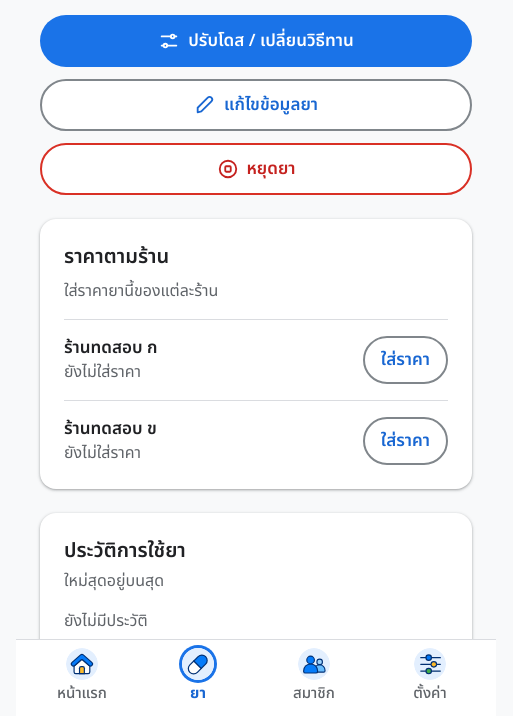
Test: regular medicine: put, change and delete a price › a regular medicine must say how many are in 1 sell unit: empty -> text of per_sell_unit_required
(page scrolled)
Click the button with aria-label "ใส่ราคา ร้านทดสอบ ก": {"x": 405, "y": 360} [363,336,448,384]
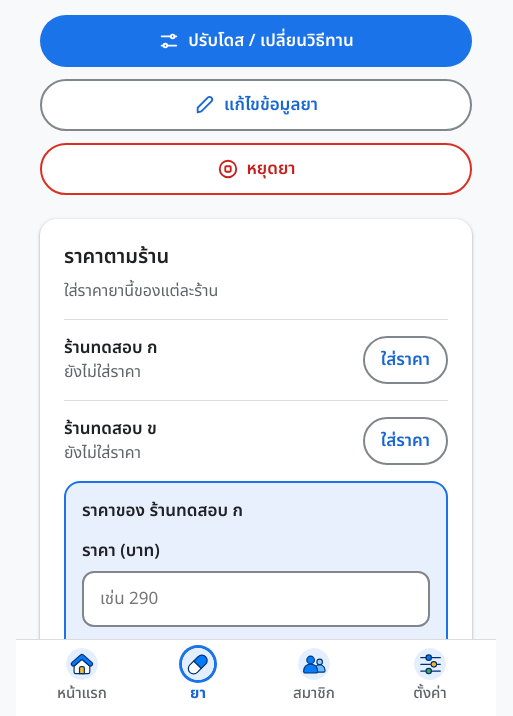
In the number field labelled "ราคา (บาท)": {"x": 256, "y": 599} [82,571,430,627], type "290"
(page scrolled)
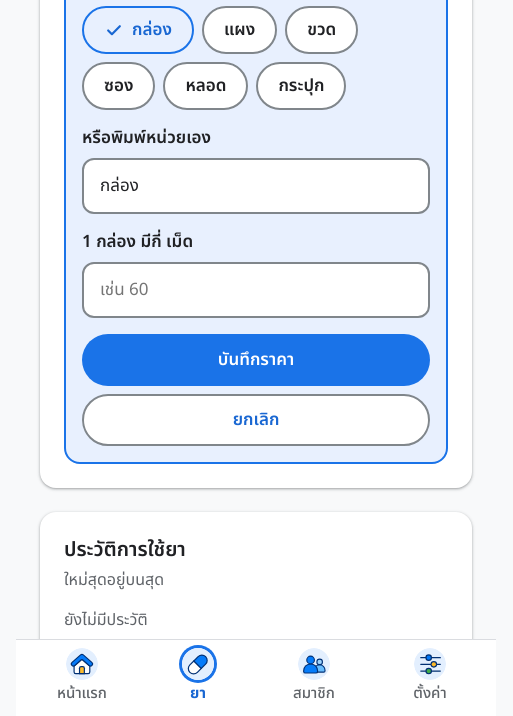
Click the button "บันทึกราคา": {"x": 256, "y": 360} [82,334,430,386]
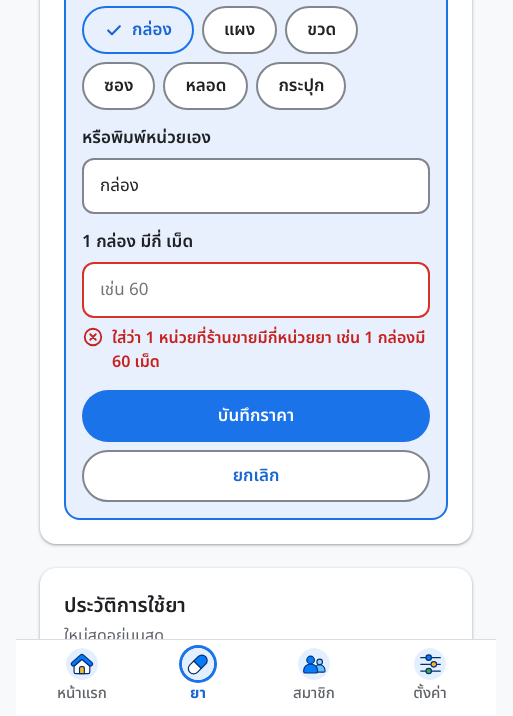
expect the text "ใส่ว่า 1 หน่วยที่ร้านขายมีกี่หน่วยยา เช่น 1 กล่องมี 60 เม็ด" is shown: met, box [82,326,430,374]
In the number field labelled "1 กล่อง มีกี่ เม็ด": {"x": 256, "y": 290} [82,262,430,318], type "0"
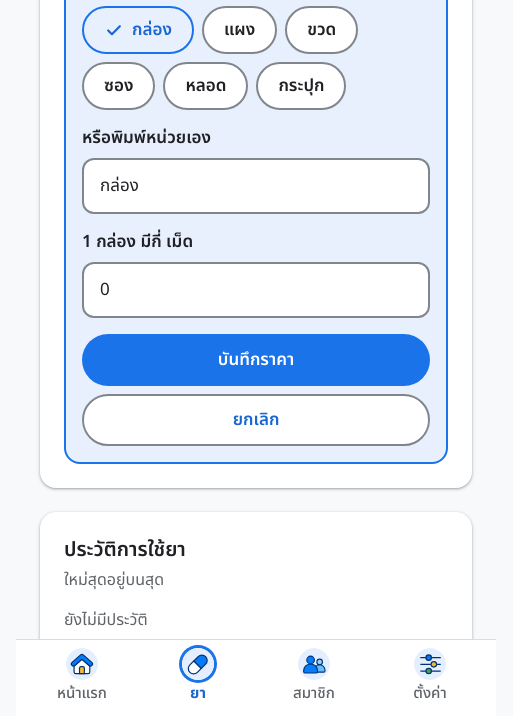
Click the button "บันทึกราคา": {"x": 256, "y": 360} [82,334,430,386]
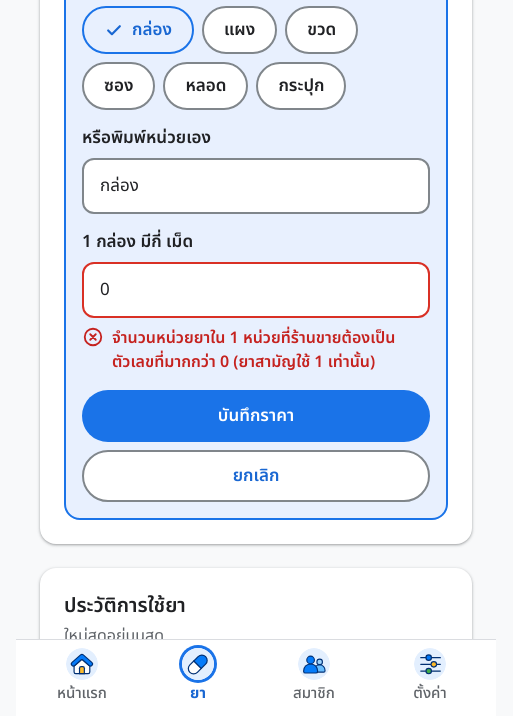
expect the text "จำนวนหน่วยยาใน 1 หน่วยที่ร้านขายต้องเป็นตัวเลขที่มากกว่า 0 (ยาสามัญใช้ 1 เท่านั้น)" is shown: met, box [112,326,395,374]
